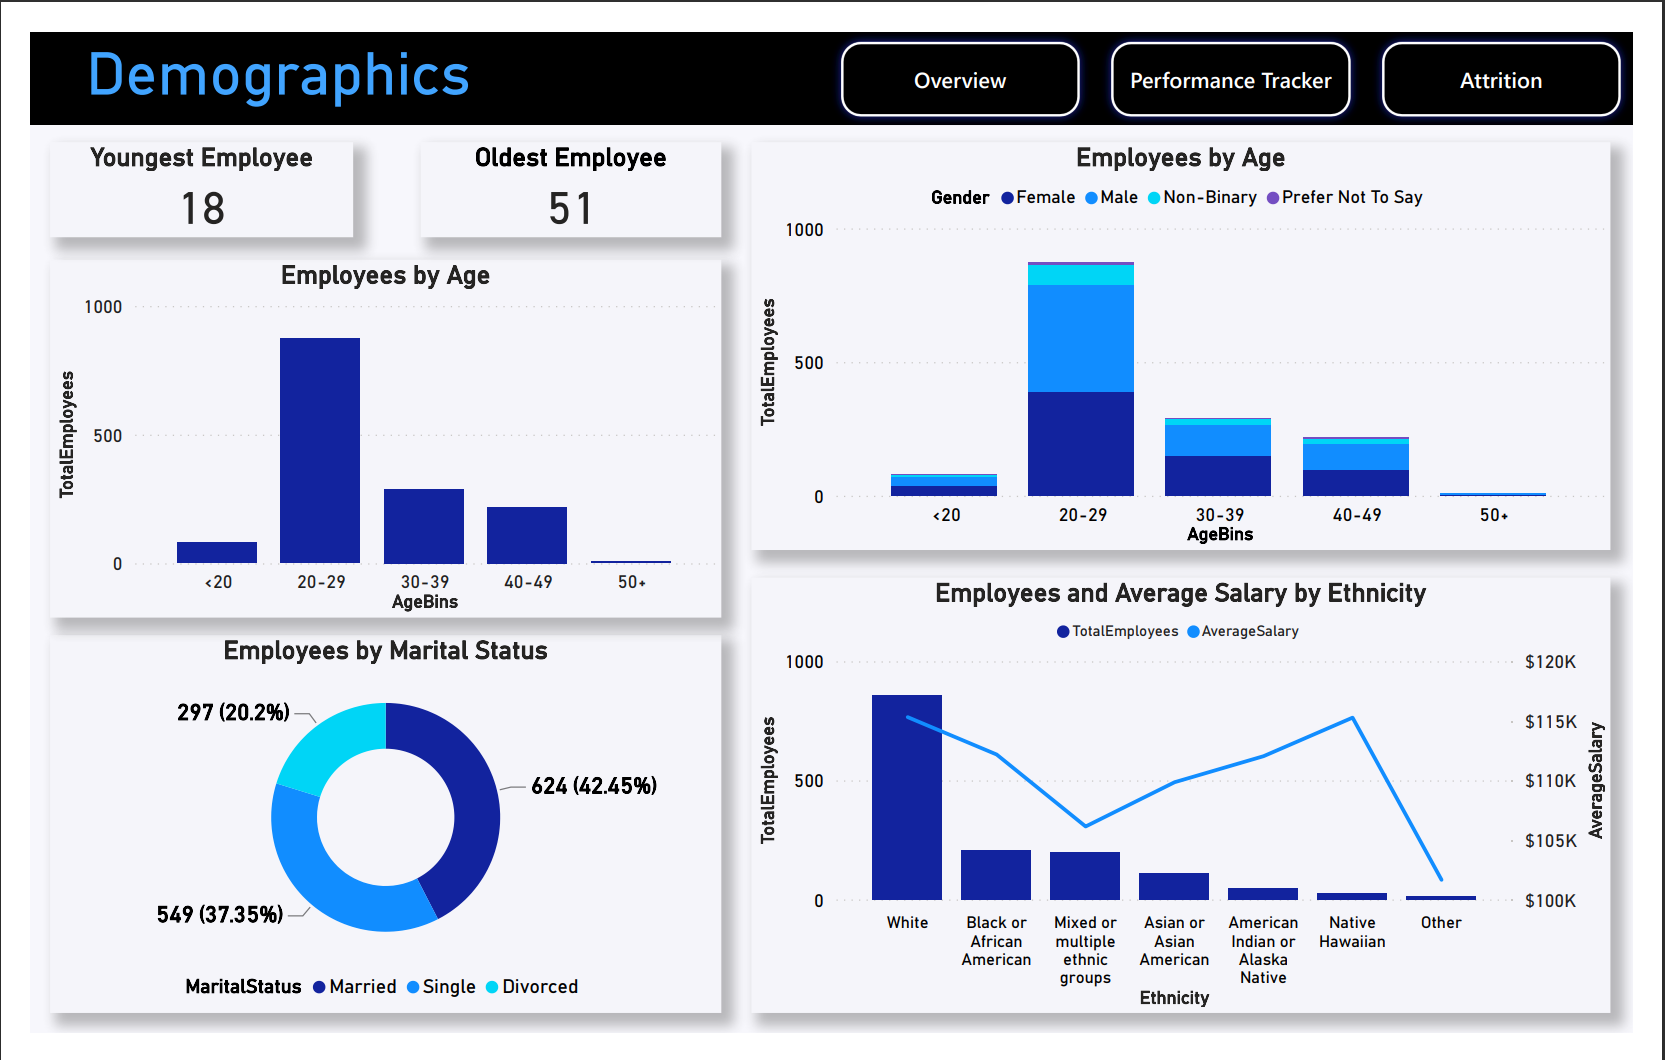

What the dashboard file says about the page in this screenshot:
{"tool":"powerbi","page":{"name":"Demographics","canvas":[1280,800],"ordinal":1},"visuals":[{"type":"card","title":"Youngest Employee","fields":{"Values":["Min(DimEmployee.Age)"]},"box":[16,88,242,76],"z":0},{"type":"card","title":"Oldest Employee","fields":{"Values":["Max(DimEmployee.Age)"]},"box":[312,88,240,76],"z":1000},{"type":"columnChart","title":"Employees by Age","fields":{"Category":["DimEmployee.AgeBins"],"Y":["_Measures.TotalEmployees"]},"box":[16,182,536,286],"z":2000},{"type":"columnChart","title":"Employees by Age","fields":{"Category":["DimEmployee.AgeBins"],"Y":["_Measures.TotalEmployees"],"Series":["DimEmployee.Gender"]},"box":[576,88,686,326],"z":3000},{"type":"donutChart","title":"Employees by Marital Status","fields":{"Category":["DimEmployee.MaritalStatus"],"Y":["_Measures.TotalEmployees"]},"box":[16,482,536,302],"z":4000},{"type":"lineStackedColumnComboChart","title":"Employees and Average Salary by Ethnicity","fields":{"Category":["DimEmployee.Ethnicity"],"Y":["_Measures.TotalEmployees"],"Y2":["_Measures.AverageSalary"]},"box":[576,436,686,348],"z":5000},{"type":"textbox","box":[0,0,1280,74],"z":6000},{"type":"pageNavigator","box":[640,0,640,74.5],"z":7000}]}

Visuals, with their boxes in screenshot pixels (x1, y1, x2, y2), scaled from the page's 1280x800 canvas onto the 1665x1060 screenshot:
"Youngest Employee" card: [21, 117, 336, 217]
"Oldest Employee" card: [406, 117, 718, 217]
"Employees by Age" columnChart: [21, 241, 718, 620]
"Employees by Age" columnChart: [749, 117, 1642, 549]
"Employees by Marital Status" donutChart: [21, 639, 718, 1039]
"Employees and Average Salary by Ethnicity" lineStackedColumnComboChart: [749, 578, 1642, 1039]
textbox: [0, 0, 1664, 98]
pageNavigator: [832, 0, 1664, 99]
